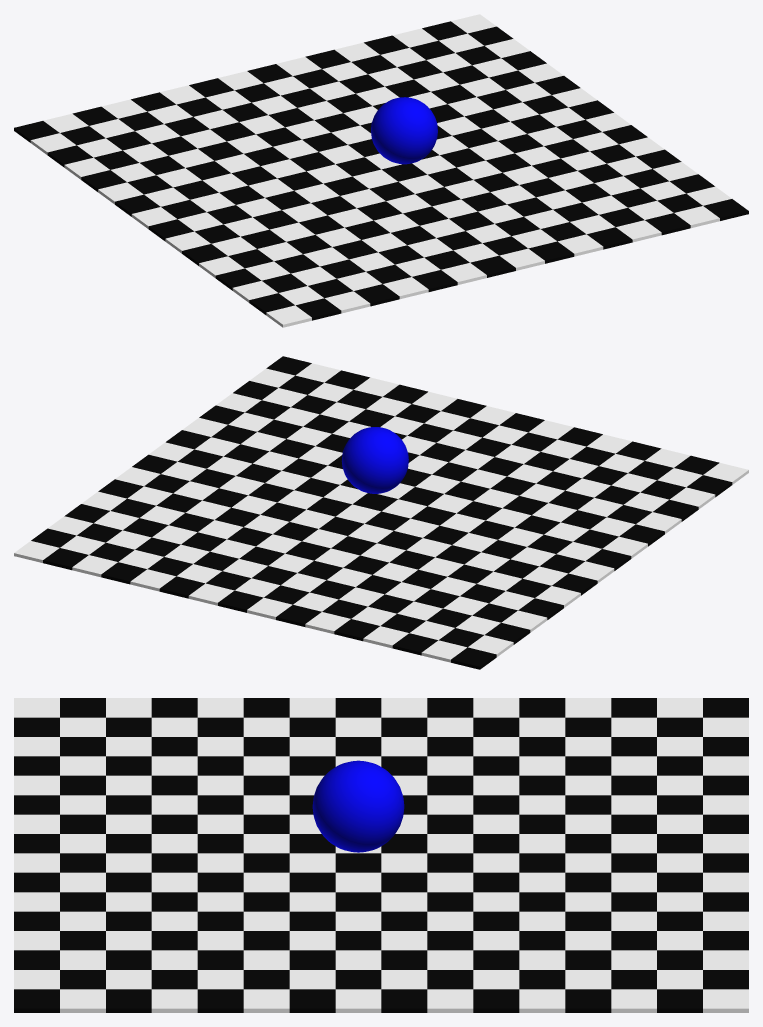
3 renders of one model, top to bottom at view 1: azimuth 30°, elevation 25°; view 2: azimuth 150°, elevation 25°; view 3: azimuth 270°, elevation 25°, orthographic. The views are drawn at different scales.
Bounding box in the file's own units: 16 × 2.46 × 16.
